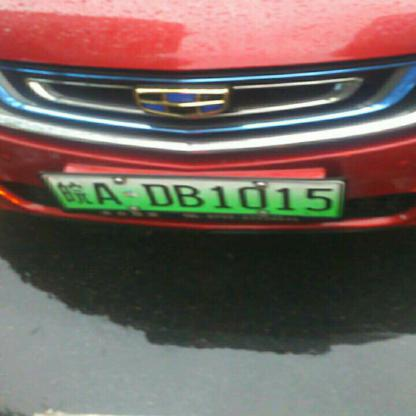lp: (40, 172, 66, 215)
